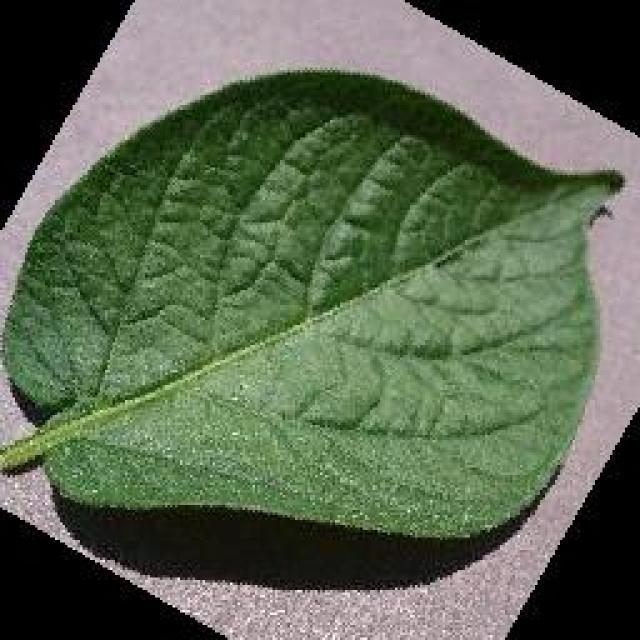Potato___healthy: (0, 70, 628, 538)
